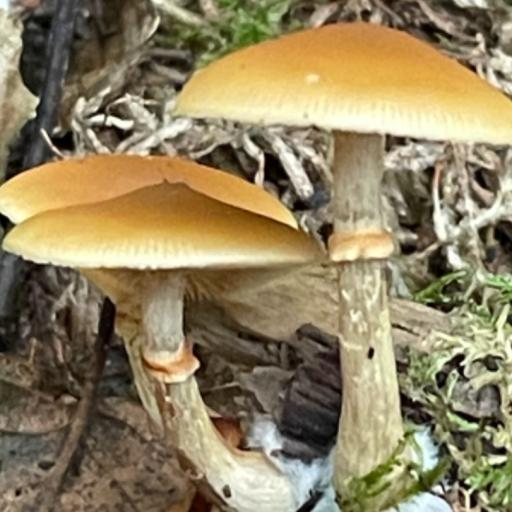mushroom: (1, 19, 512, 347)
